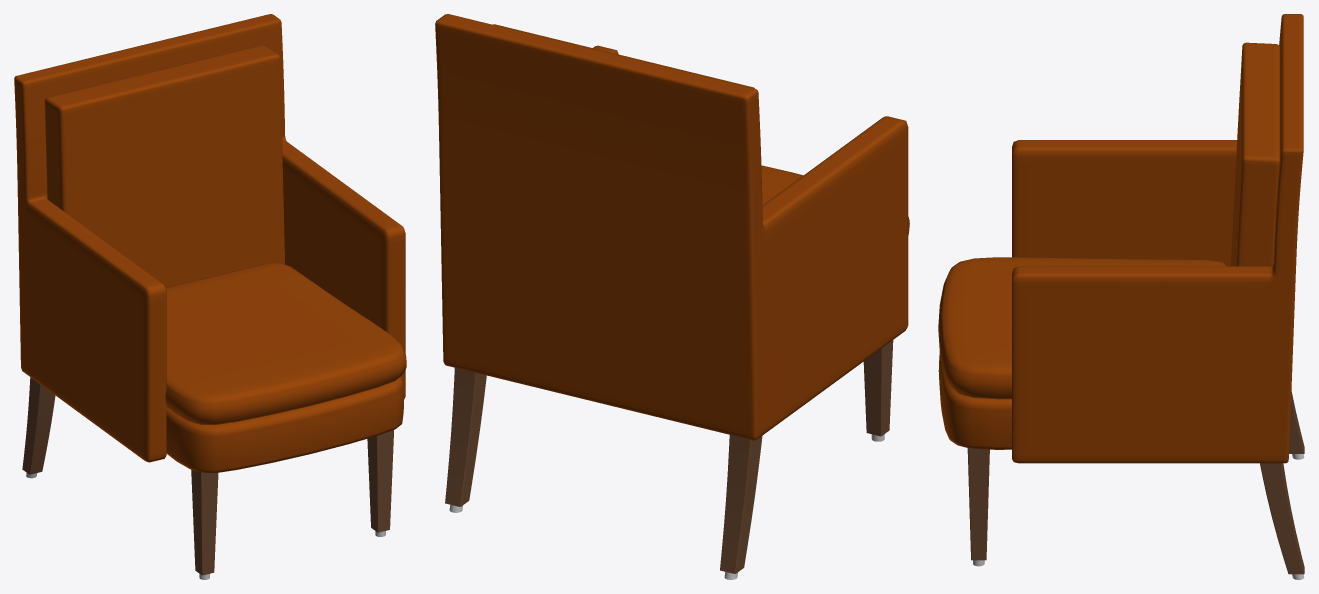
Rendered from smoking_chair.fbx.
The picture shows the model from 3 angles, left to right: view 1: azimuth 30°, elevation 25°; view 2: azimuth 150°, elevation 25°; view 3: azimuth 270°, elevation 25°; orthographic projection. The views are drawn at different scales.
Visible parts, largest first — view 1: polySurface93; view 2: polySurface93; view 3: polySurface93.
Boxes of the visible parts, x1,y1,x2,y2 form: polySurface93: (14,14,406,579); polySurface93: (435,14,909,579); polySurface93: (938,14,1304,579).
Size of the model in its own units: 18.34 by 27.21 by 20.73.
